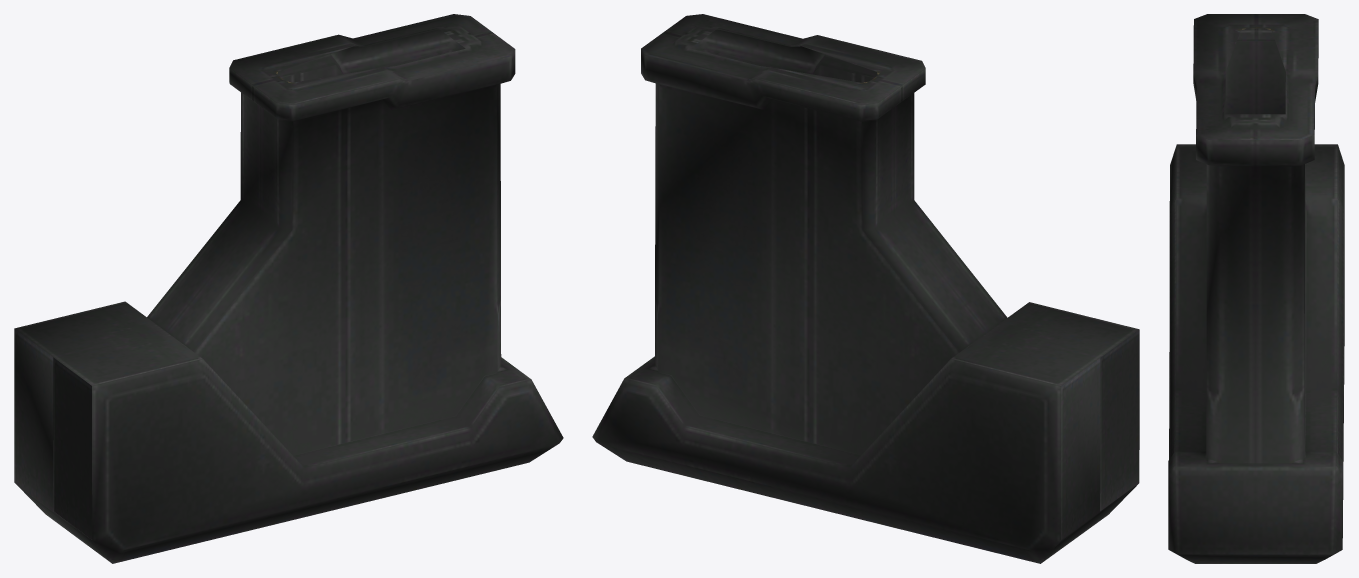
Rendered from BR55_Magazine.fbx.
3 renders of one model, left to right at view 1: azimuth 30°, elevation 25°; view 2: azimuth 150°, elevation 25°; view 3: azimuth 270°, elevation 25°, orthographic. The views are drawn at different scales.
Visible parts, largest first — view 1: Magazine1; view 2: Magazine1; view 3: Magazine1.
Part boxes in pixels (x1,y1,x2,y2): Magazine1: (14,14,563,563); Magazine1: (592,14,1139,563); Magazine1: (1168,14,1344,563).
Size of the model in its own units: 11.87 by 9.9 by 3.73.
